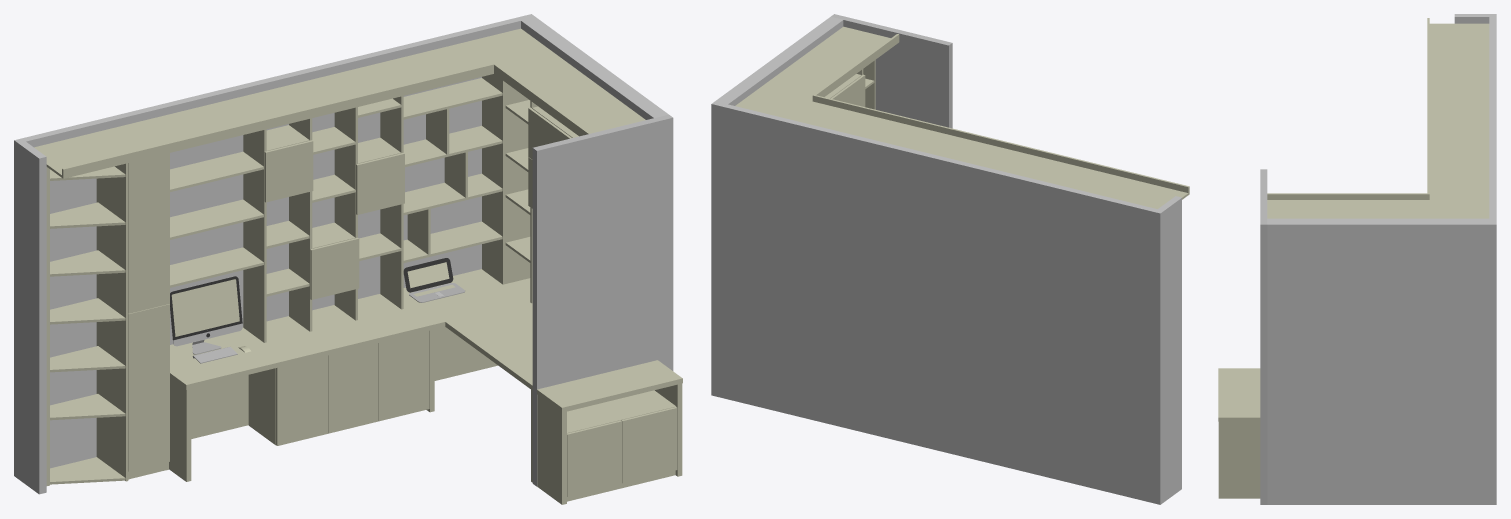
The picture shows the model from 3 angles, left to right: view 1: azimuth 30°, elevation 25°; view 2: azimuth 150°, elevation 25°; view 3: azimuth 270°, elevation 25°; orthographic projection. The views are drawn at different scales.
Parts seen in each view (by area): view 1: {2A6C84EA-B1F2-42ee-B397-044F586B9D5F}_Node, {C0F30BE0-D3FC-47bf-BB6B-A1F003FA4CCF}_Node, {CD972E12-316D-49fa-B310-1258A6DD1968}_Node, {5E396BDC-B707-41c4-B8F3-87A4472EA197}_Node, {88D22B99-D185-46f0-974E-BF69D769504D}_Node, {54905AB6-88DE-4c29-9DA6-3517A065FC3F}_Node, {7F26D938-22D2-492a-85FA-D837ABDC7F1C}_Node, {A2848F2A-1C2A-4432-9712-B222060352EC}_Node, {58F35E0E-7672-431e-AD49-586A4A31575C}_Node, {50EF0CB5-46C4-41ec-8682-C7E5D80311D3}_Node, {17DD2F6F-2B08-4bbe-AB41-5CC041D20AFD}_Node, {ECE93426-42AB-4c7f-9624-FC55C1A8830A}_Node (+51 smaller); view 2: {C0F30BE0-D3FC-47bf-BB6B-A1F003FA4CCF}_Node, {CD972E12-316D-49fa-B310-1258A6DD1968}_Node, {2A6C84EA-B1F2-42ee-B397-044F586B9D5F}_Node, {90BCCFDF-3D7E-4976-8192-91B1DF041A19}_Node, {88D22B99-D185-46f0-974E-BF69D769504D}_Node, {A2848F2A-1C2A-4432-9712-B222060352EC}_Node, {50EF0CB5-46C4-41ec-8682-C7E5D80311D3}_Node, {EA152D2A-3C75-4ff9-B6BD-A3A9F53CBB4F}_Node, {60E7D3A3-852D-46bc-9077-C410B72CB5A5}_Node, {95F7D407-AC0F-4881-9CF4-C0D2BB850C0C}_Node, {38FBDC1D-E516-4b4b-88EF-52FDA9F7C265}_Node, {8CFE2F03-67B0-4704-8ECC-EFE2FB10E0CE}_Node; view 3: {90BCCFDF-3D7E-4976-8192-91B1DF041A19}_Node, {88D22B99-D185-46f0-974E-BF69D769504D}_Node, {A2848F2A-1C2A-4432-9712-B222060352EC}_Node, {F12D26A7-4A12-4fe7-B9A5-0C99A1F70C78}_Node, {50EF0CB5-46C4-41ec-8682-C7E5D80311D3}_Node, {2A6C84EA-B1F2-42ee-B397-044F586B9D5F}_Node, {EE39018E-D5A2-4844-98D0-EC1B4CCE4261}_Node, {C0F30BE0-D3FC-47bf-BB6B-A1F003FA4CCF}_Node, {38FBDC1D-E516-4b4b-88EF-52FDA9F7C265}_Node, {CD972E12-316D-49fa-B310-1258A6DD1968}_Node.
Part boxes in pixels (x1,y1,x2,y2): {2A6C84EA-B1F2-42ee-B397-044F586B9D5F}_Node: (532, 114, 673, 486); {C0F30BE0-D3FC-47bf-BB6B-A1F003FA4CCF}_Node: (29, 17, 520, 468); {CD972E12-316D-49fa-B310-1258A6DD1968}_Node: (14, 138, 46, 494); {5E396BDC-B707-41c4-B8F3-87A4472EA197}_Node: (170, 291, 445, 389); {88D22B99-D185-46f0-974E-BF69D769504D}_Node: (250, 28, 556, 115); {54905AB6-88DE-4c29-9DA6-3517A065FC3F}_Node: (403, 269, 532, 390); {7F26D938-22D2-492a-85FA-D837ABDC7F1C}_Node: (128, 304, 169, 471); {A2848F2A-1C2A-4432-9712-B222060352EC}_Node: (34, 94, 278, 177); {58F35E0E-7672-431e-AD49-586A4A31575C}_Node: (128, 153, 169, 313); {50EF0CB5-46C4-41ec-8682-C7E5D80311D3}_Node: (502, 54, 645, 133); {17DD2F6F-2B08-4bbe-AB41-5CC041D20AFD}_Node: (276, 355, 328, 445); {ECE93426-42AB-4c7f-9624-FC55C1A8830A}_Node: (378, 330, 429, 421); {C0F30BE0-D3FC-47bf-BB6B-A1F003FA4CCF}_Node: (724, 104, 1150, 501); {CD972E12-316D-49fa-B310-1258A6DD1968}_Node: (1154, 196, 1181, 504); {2A6C84EA-B1F2-42ee-B397-044F586B9D5F}_Node: (831, 14, 952, 128); {90BCCFDF-3D7E-4976-8192-91B1DF041A19}_Node: (711, 16, 843, 398); {88D22B99-D185-46f0-974E-BF69D769504D}_Node: (735, 88, 993, 163); {A2848F2A-1C2A-4432-9712-B222060352EC}_Node: (970, 146, 1188, 208); {50EF0CB5-46C4-41ec-8682-C7E5D80311D3}_Node: (759, 26, 890, 101); {EA152D2A-3C75-4ff9-B6BD-A3A9F53CBB4F}_Node: (1147, 207, 1157, 503); {60E7D3A3-852D-46bc-9077-C410B72CB5A5}_Node: (994, 139, 1189, 194); {95F7D407-AC0F-4881-9CF4-C0D2BB850C0C}_Node: (812, 95, 994, 145); {38FBDC1D-E516-4b4b-88EF-52FDA9F7C265}_Node: (814, 34, 899, 96); {8CFE2F03-67B0-4704-8ECC-EFE2FB10E0CE}_Node: (831, 74, 865, 106); {90BCCFDF-3D7E-4976-8192-91B1DF041A19}_Node: (1267, 218, 1496, 504); {88D22B99-D185-46f0-974E-BF69D769504D}_Node: (1429, 115, 1489, 218); {A2848F2A-1C2A-4432-9712-B222060352EC}_Node: (1429, 23, 1489, 114); {F12D26A7-4A12-4fe7-B9A5-0C99A1F70C78}_Node: (1218, 421, 1260, 498); {50EF0CB5-46C4-41ec-8682-C7E5D80311D3}_Node: (1267, 200, 1429, 218); {2A6C84EA-B1F2-42ee-B397-044F586B9D5F}_Node: (1260, 169, 1267, 504); {EE39018E-D5A2-4844-98D0-EC1B4CCE4261}_Node: (1218, 368, 1260, 421); {C0F30BE0-D3FC-47bf-BB6B-A1F003FA4CCF}_Node: (1489, 20, 1496, 218); {38FBDC1D-E516-4b4b-88EF-52FDA9F7C265}_Node: (1267, 193, 1427, 199); {CD972E12-316D-49fa-B310-1258A6DD1968}_Node: (1454, 14, 1496, 23).
Bounding box in the file's own units: 4.18 × 2.59 × 2.33.
